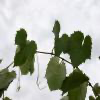grape leaf: (12, 27, 37, 69), (43, 56, 69, 94), (68, 28, 91, 70), (60, 71, 90, 96), (52, 18, 67, 59)
